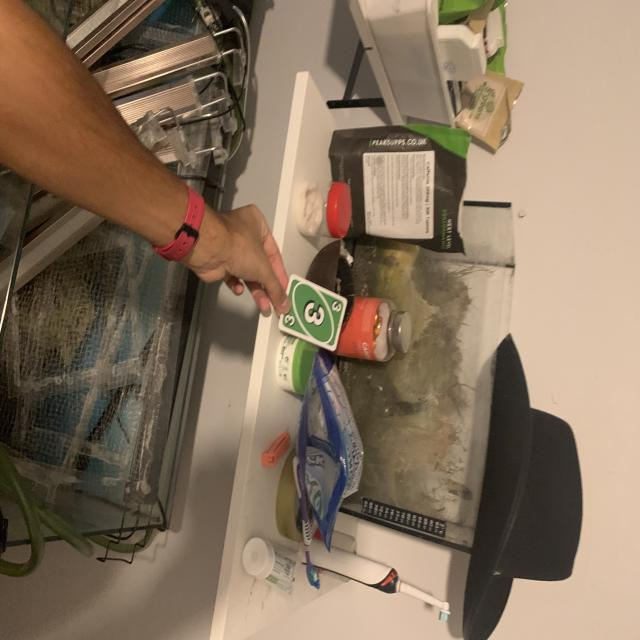lgreen-3: (282, 314, 298, 329)
